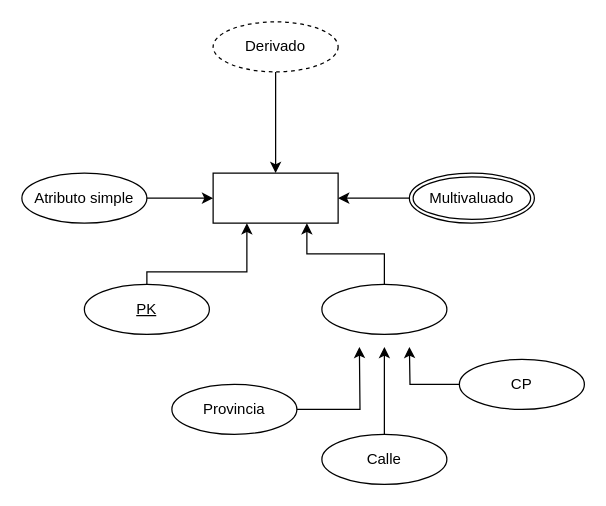
The diagram is 606 pixels wide and 506 high, and some of its shapes have lost their labels. Each missing label, with the box of its shape:
Cliente: (212, 172, 338, 223)
Dirección: (321, 283, 447, 334)
